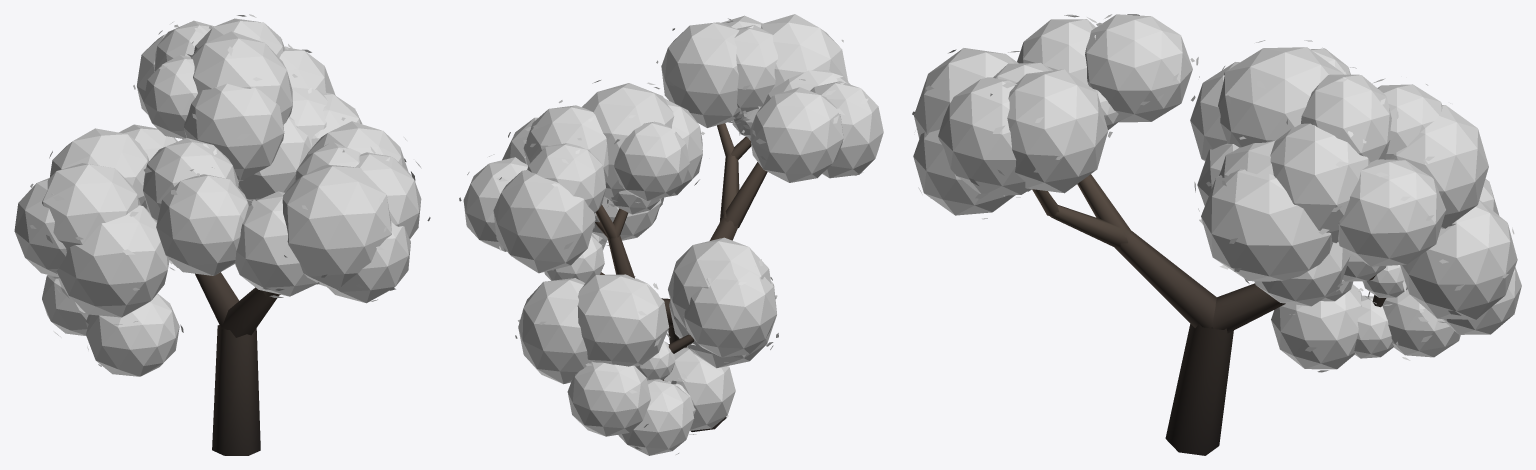
Rendered from tree_gnarled_6.glb.
3 views of the same model, side by side, from view 1: azimuth 30°, elevation 25°; view 2: azimuth 150°, elevation 25°; view 3: azimuth 270°, elevation 25° (orthographic). The views are drawn at different scales.
Parts seen in each view (by area): view 1: CT_gnarled_leafy; view 2: CT_gnarled_leafy; view 3: CT_gnarled_leafy.
Part boxes in pixels (left/top/right/bottom): CT_gnarled_leafy: left=14, top=14, right=430, bottom=455; CT_gnarled_leafy: left=459, top=14, right=883, bottom=455; CT_gnarled_leafy: left=912, top=14, right=1521, bottom=455.
Bounding box in the file's own units: 2.42 × 2.9 × 3.81.
